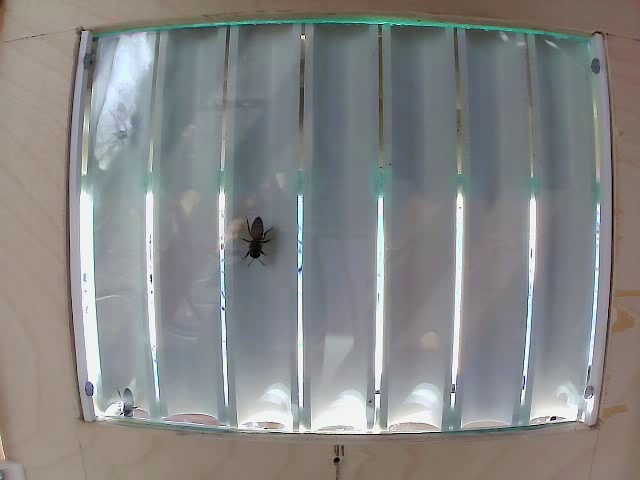bee: (234, 210, 272, 275)
